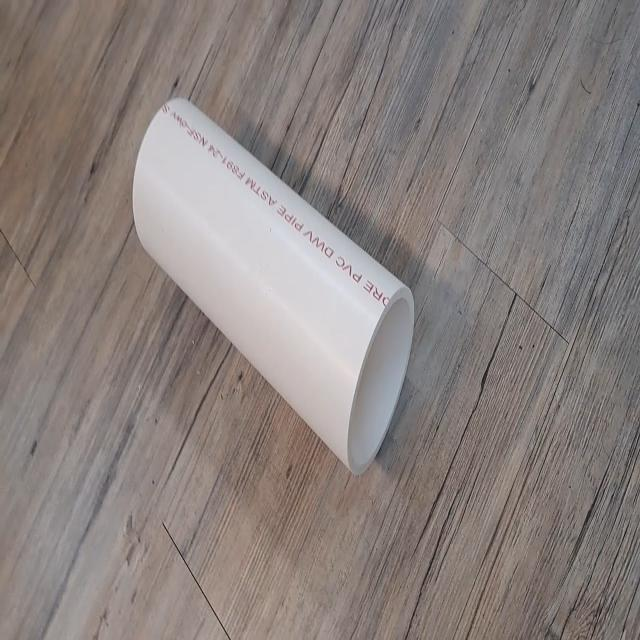CORAL: (130, 86, 421, 488)
